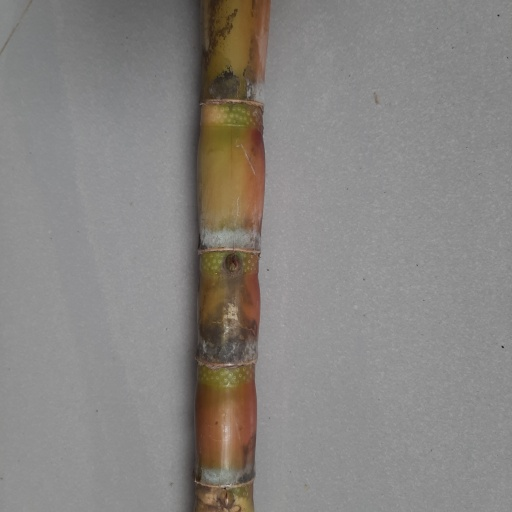Bud: (214, 489, 236, 512), (223, 252, 241, 275)
